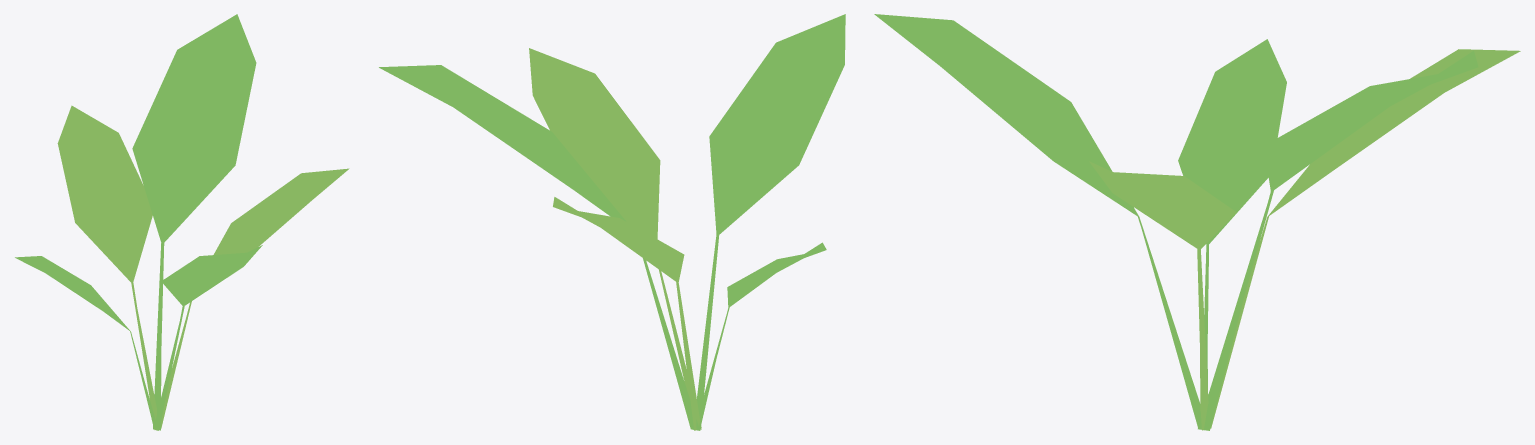
File: Plant_j_TwoS_10.fbx
The picture shows the model from 3 angles, left to right: view 1: azimuth 30°, elevation 25°; view 2: azimuth 150°, elevation 25°; view 3: azimuth 270°, elevation 25°; orthographic projection. The views are drawn at different scales.
Visible parts, largest first — view 1: Plant_j_TwoS_10; view 2: Plant_j_TwoS_10; view 3: Plant_j_TwoS_10.
Boxes of the visible parts, x1=… form: Plant_j_TwoS_10: x1=15, y1=14, x2=349, y2=430; Plant_j_TwoS_10: x1=379, y1=14, x2=845, y2=430; Plant_j_TwoS_10: x1=874, y1=14, x2=1520, y2=430.
Size of the model in its own units: 0.3174 by 0.3252 by 0.3894.
